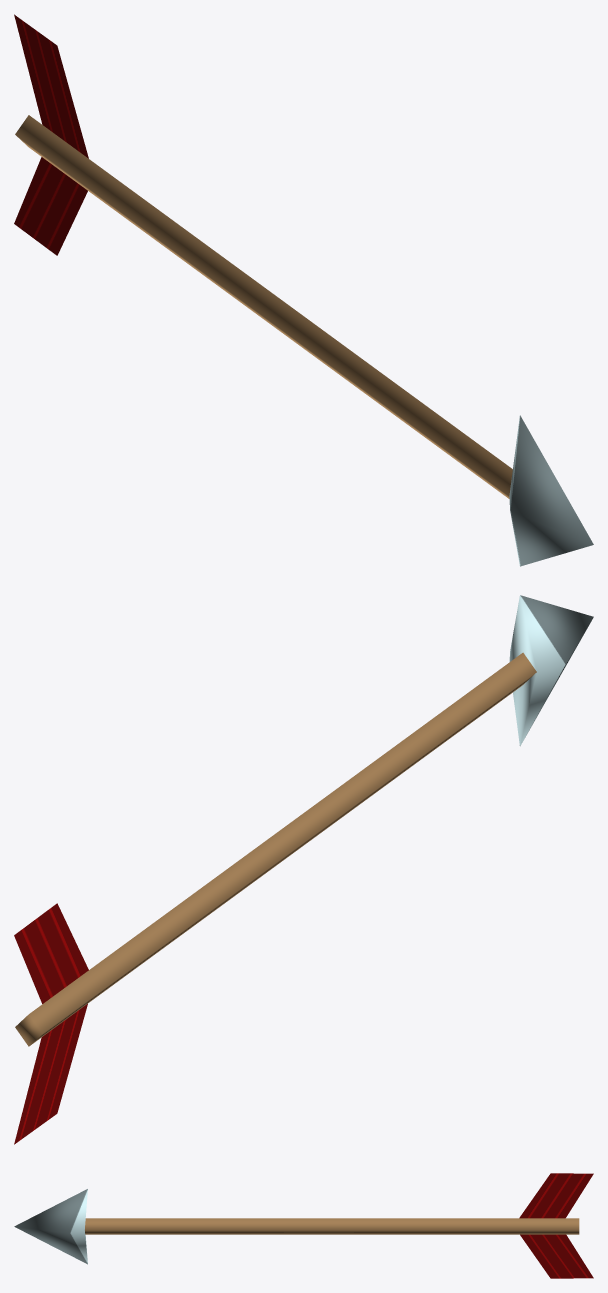
Rendered from arrow.FBX.
3 views of the same model, one above another, from view 1: azimuth 30°, elevation 25°; view 2: azimuth 150°, elevation 25°; view 3: azimuth 270°, elevation 25° (orthographic). The views are drawn at different scales.
Parts seen in each view (by area): view 1: arrow, arrowWing; view 2: arrow, arrowWing; view 3: arrow, arrowWing.
Boxes of the visible parts, <box> form: arrow: <box>15,115,593,566</box>; arrowWing: <box>14,14,88,255</box>; arrow: <box>15,595,593,1046</box>; arrowWing: <box>14,903,88,1144</box>; arrow: <box>14,1189,579,1264</box>; arrowWing: <box>519,1173,593,1278</box>.
Size of the model in its own units: 2.03 by 36.79 by 7.37.
1 material, 1 textured.
